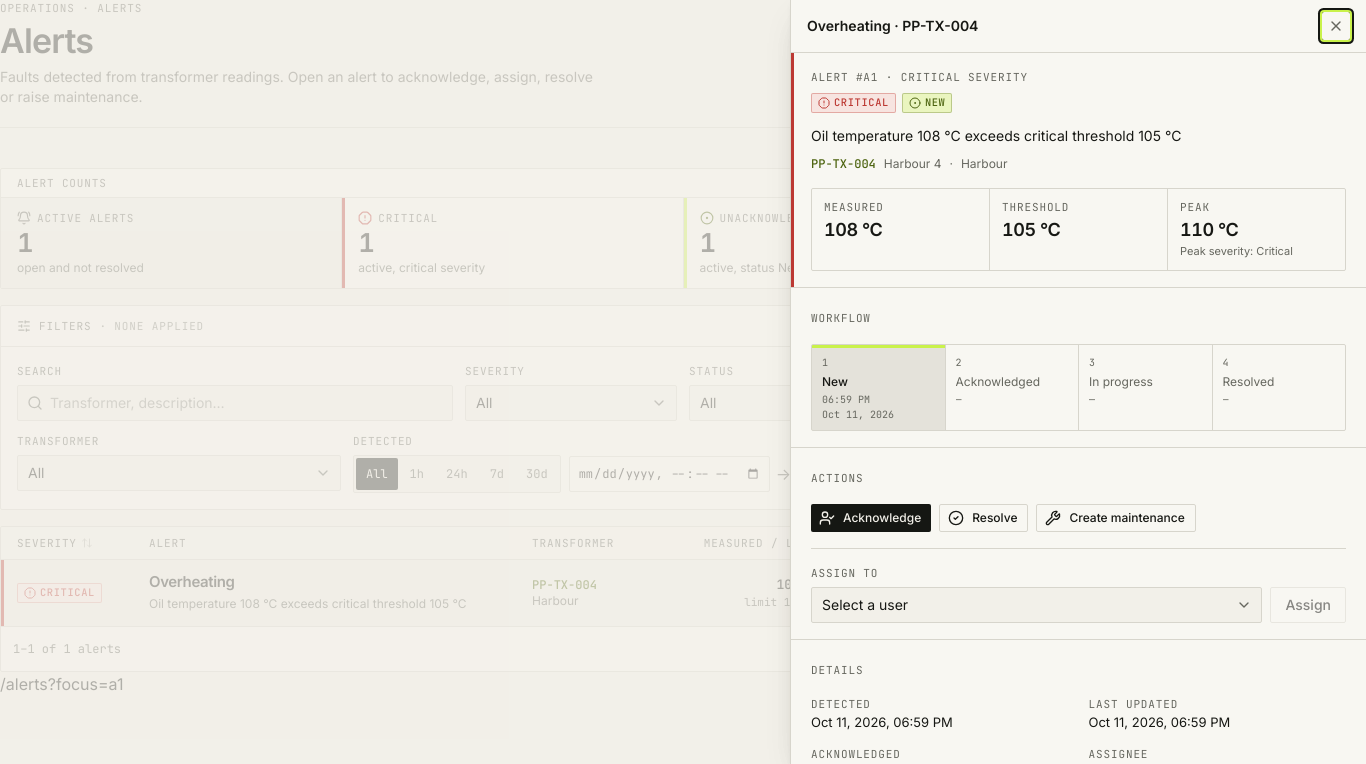
Test: AlertsPage › disables every action while a workflow change is pending and does not toast early
The image size is (1366, 764).
Click the button "Acknowledge" at {"x": 871, "y": 518}, box [811,504,931,532]
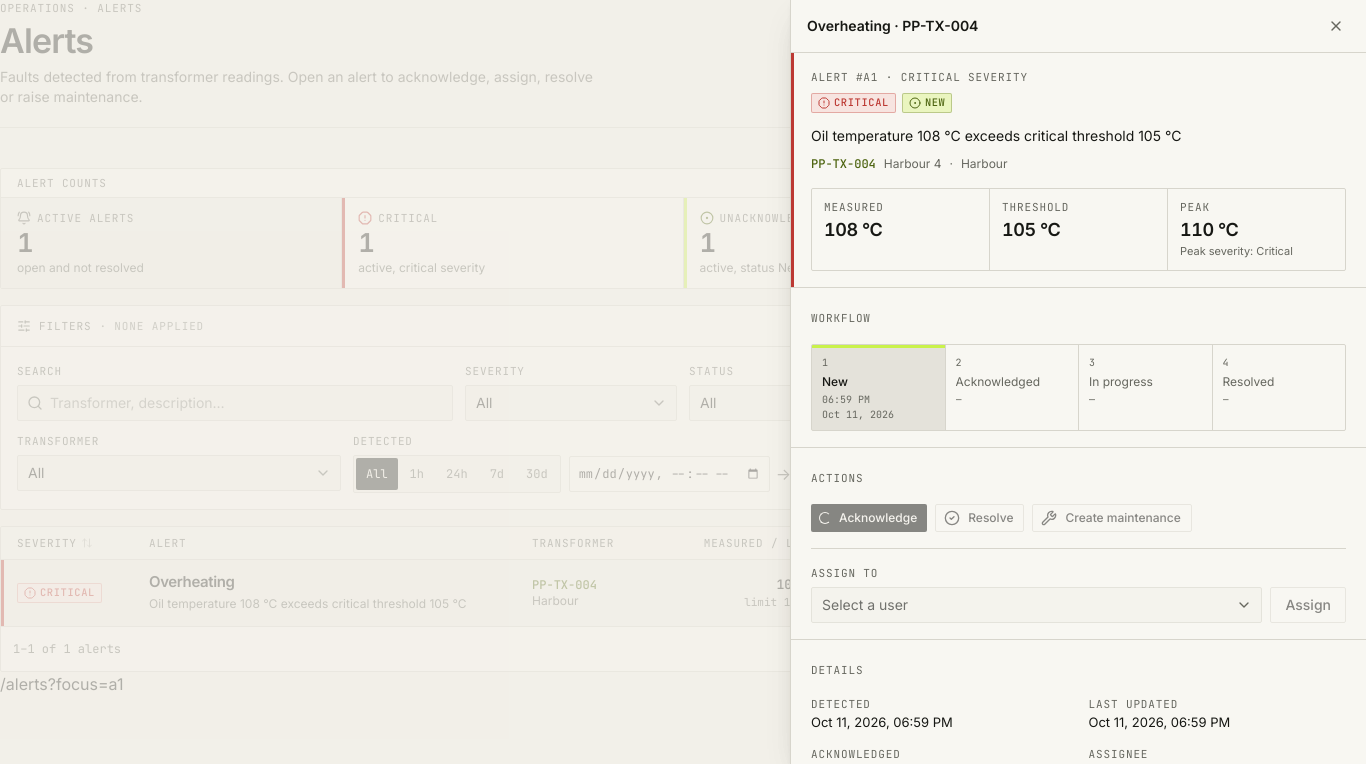
expect the button "Acknowledge" is disabled: met
expect the button "Resolve" is disabled: met, box [935,504,1024,532]
expect the button "Create maintenance" is disabled: met, box [1032,504,1192,532]
Click the button "Acknowledge" at {"x": 869, "y": 518}, box [811,504,927,532]
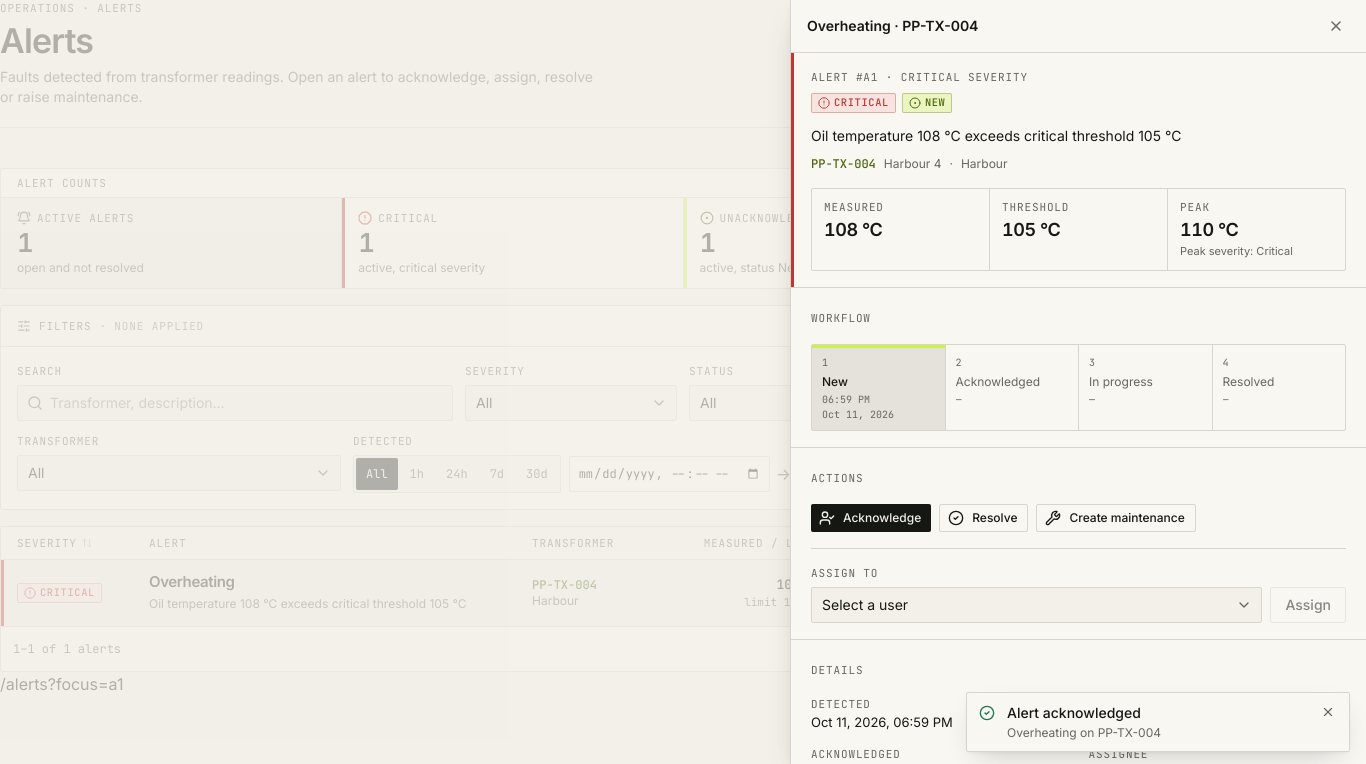
expect the text "Alert acknowledged" is shown: met, box [1006,703,1141,721]
